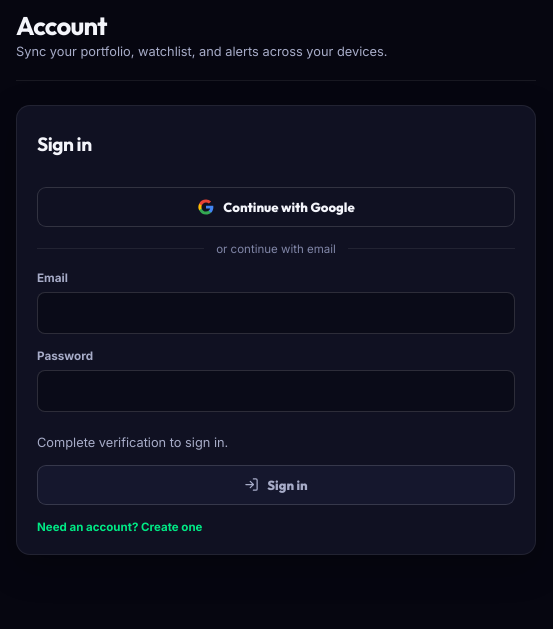
Scenario: Google sign-in on the account page › restores the form when an unexpected request failure occurs
Step 1. Click the button "Continue with Google" → (276, 206), box [37,186,515,226]
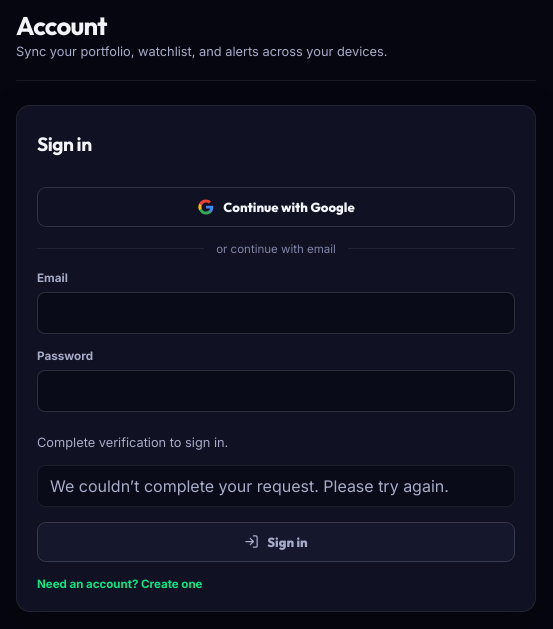
Check: the message "We couldn’t complete your request. Please try again." is shown, box [37,464,515,506]
